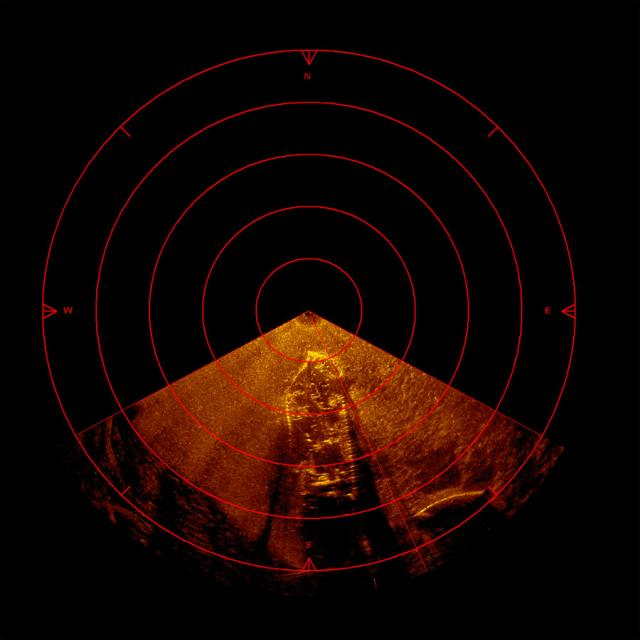ship: (276, 346, 376, 506)
